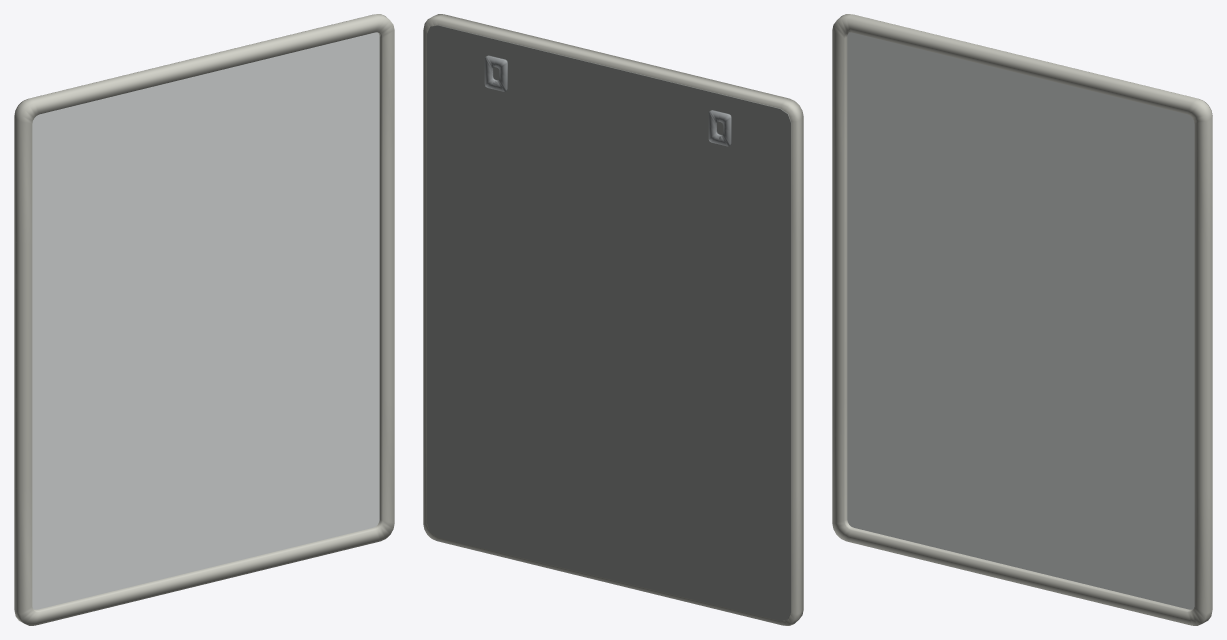
The model's file is BathroomMirror_LOD0.fbx.
3 views of the same model, side by side, from view 1: azimuth 30°, elevation 25°; view 2: azimuth 150°, elevation 25°; view 3: azimuth 330°, elevation 25° (orthographic).
Parts seen in each view (by area): view 1: MirrorSurface_LOD0, Body_LOD0; view 2: Body_LOD0; view 3: MirrorSurface_LOD0, Body_LOD0.
Boxes of the visible parts, x1=… form: MirrorSurface_LOD0: x1=32, y1=32, x2=379, y2=609; Body_LOD0: x1=14, y1=14, x2=394, y2=625; Body_LOD0: x1=423, y1=14, x2=803, y2=625; MirrorSurface_LOD0: x1=847, y1=32, x2=1194, y2=609; Body_LOD0: x1=832, y1=14, x2=1212, y2=625.
Size of the model in its own units: 0.45 by 0.6 by 0.019.
